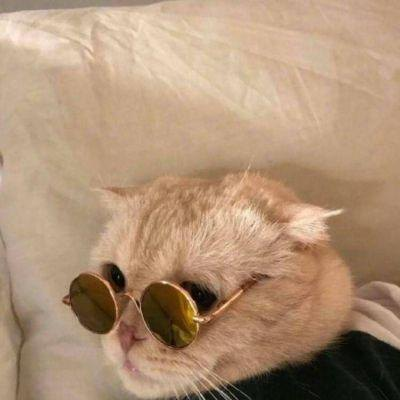cat: (72, 180, 356, 380)
